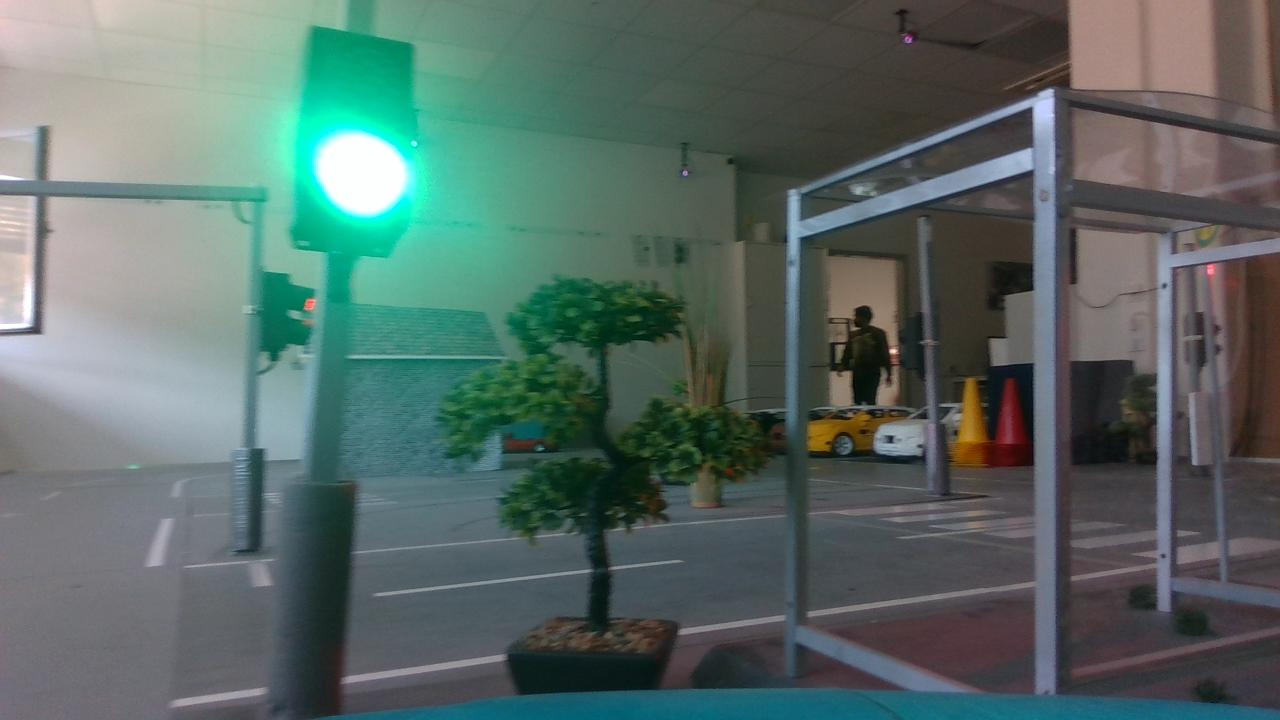traffic_light_green: (250, 22, 460, 282)
